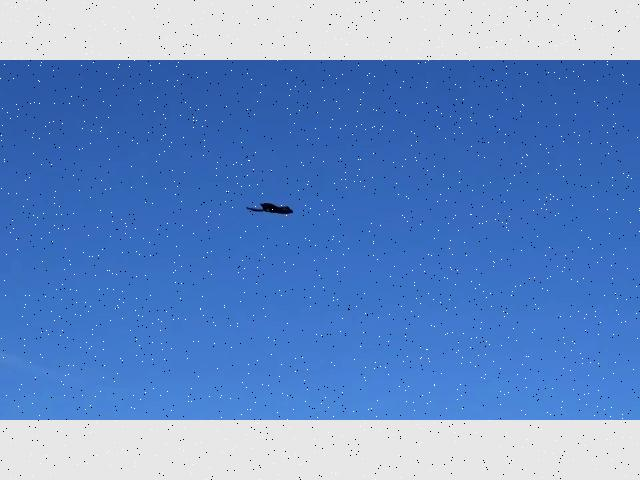Anti-Drone: (241, 194, 297, 224)
